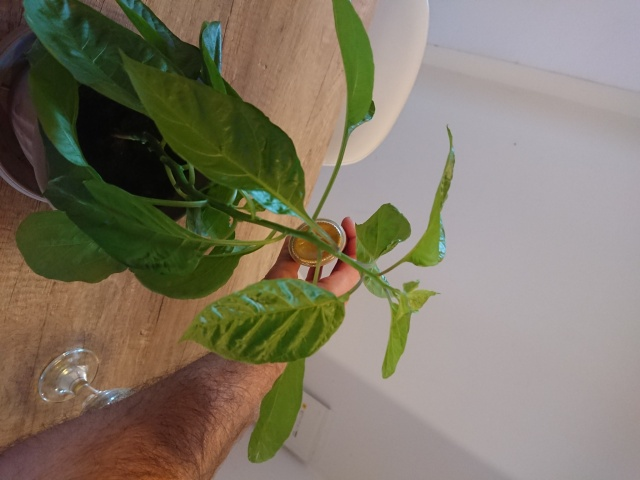Kotanyi Curry Spices Mix 70g: (287, 216, 349, 270)
